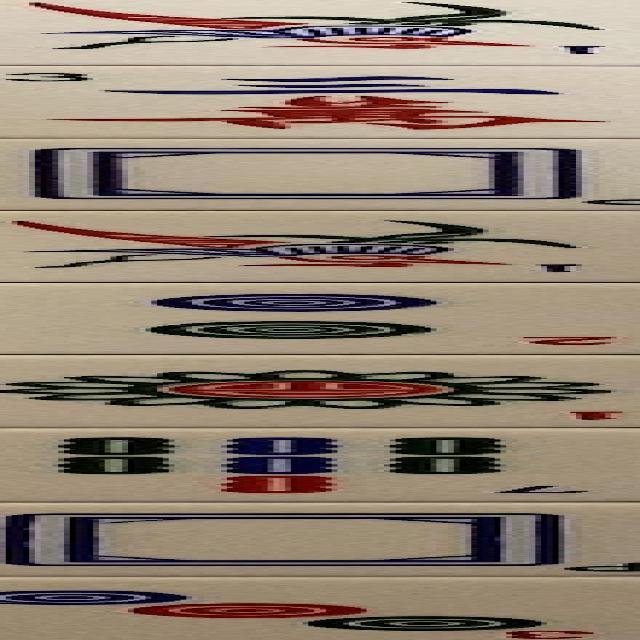hdw: (0, 504, 640, 576), (0, 140, 640, 208)
sb1: (0, 210, 640, 280), (0, 0, 640, 63)
sb7: (0, 430, 640, 500)
sc3: (0, 66, 640, 134)
sd1: (0, 356, 640, 428)
sd2: (0, 284, 640, 352)
sd3: (0, 577, 640, 640)
